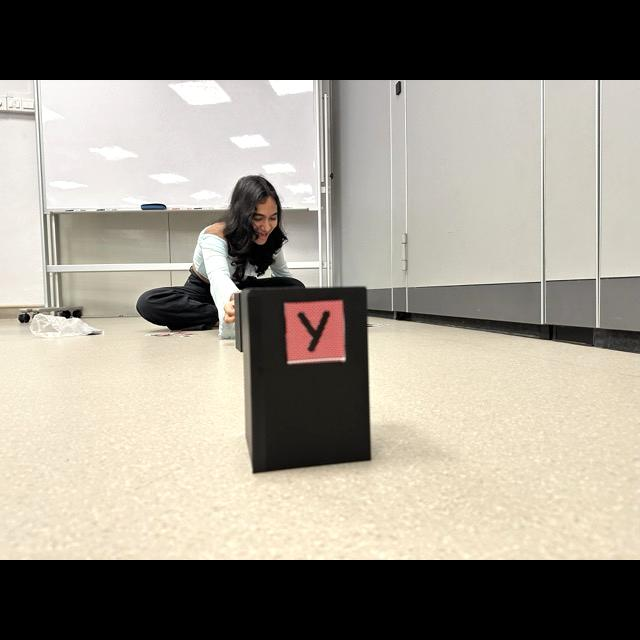Y: (297, 310, 329, 352)
